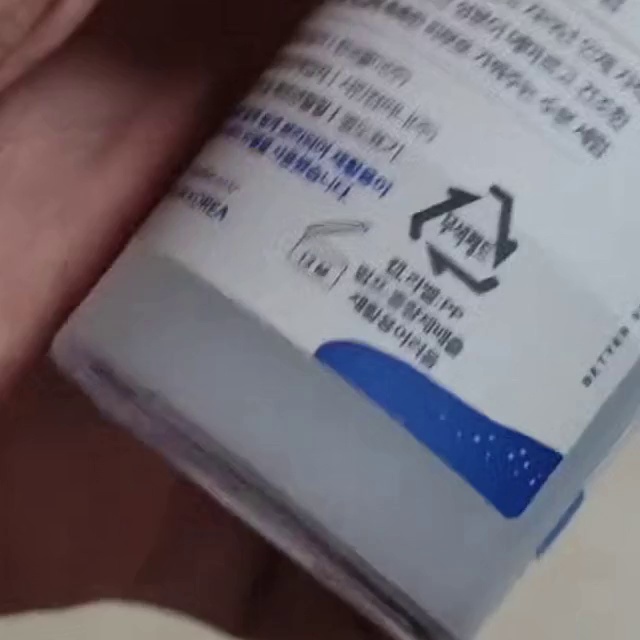ColorlessPet: (408, 184, 519, 296)
